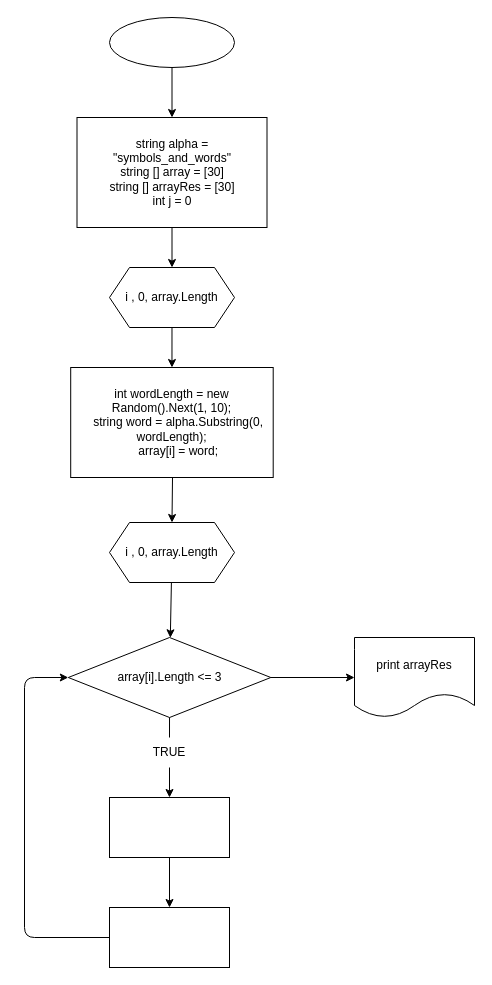
The diagram is 492 pixels wide and 985 high, and some of its shapes have lost their labels. Here are the shapes that lost their labels. From the top down, the box of each, then its label:
(108, 16, 234, 68): START
(108, 796, 230, 858): arrayRes[j] = array[i];
(108, 906, 230, 968): j++
